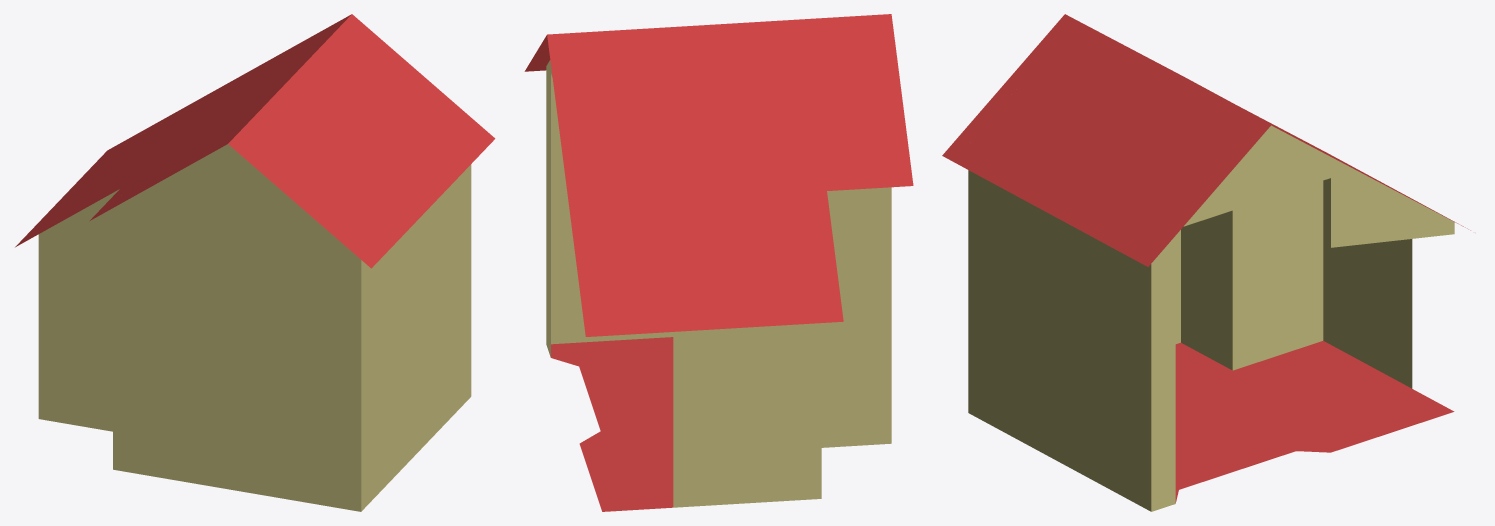
The picture shows the model from 3 angles, left to right: view 1: azimuth 30°, elevation 25°; view 2: azimuth 150°, elevation 25°; view 3: azimuth 270°, elevation 25°; orthographic projection. The views are drawn at different scales.
Size of the model in its own units: 12.25 by 14.42 by 10.54.
